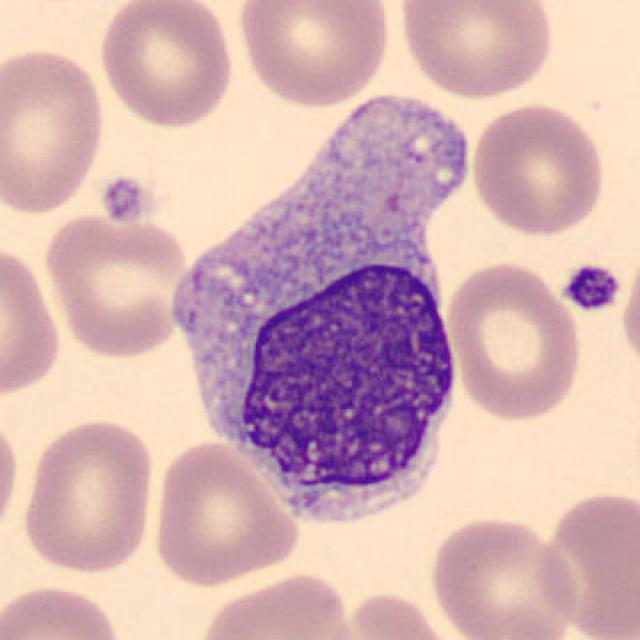Monocyte: (165, 99, 468, 557)
Platelets: (560, 261, 624, 314), (98, 174, 154, 226)
RBC: (443, 257, 585, 425), (150, 436, 302, 590), (41, 210, 194, 361), (18, 414, 158, 576), (425, 513, 581, 640), (468, 99, 608, 238), (0, 40, 108, 216), (94, 0, 238, 130), (233, 0, 393, 109), (396, 0, 558, 100), (533, 486, 638, 640), (192, 569, 361, 640), (0, 238, 64, 402), (0, 580, 126, 640), (331, 589, 462, 640), (617, 240, 640, 381), (0, 407, 23, 545)
